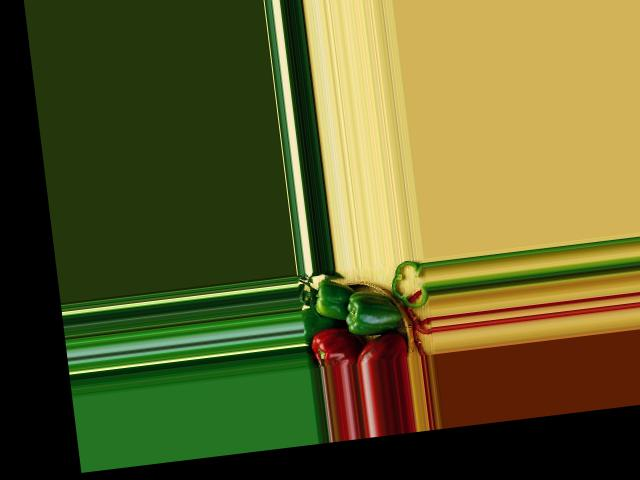bell_pepper: (353, 333, 409, 363)
